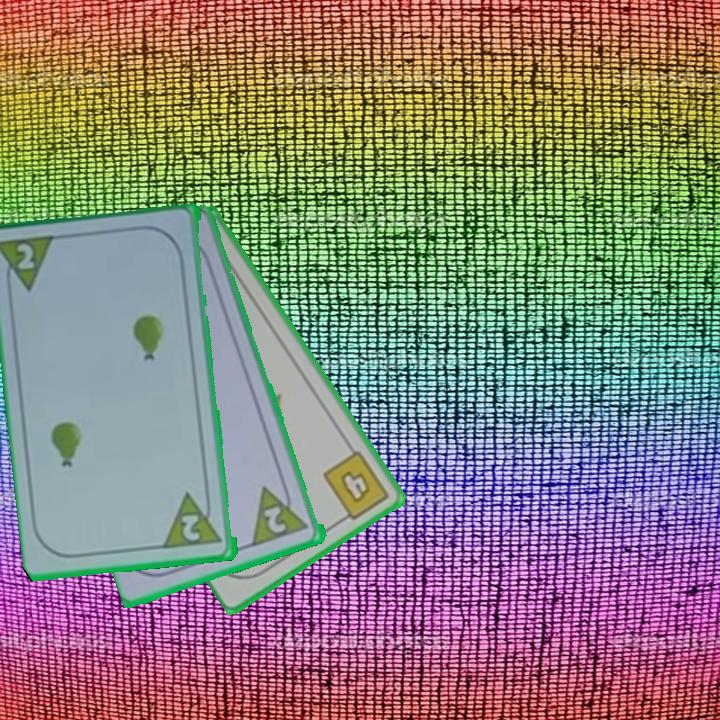2p: (249, 477, 313, 550), (162, 488, 226, 552), (14, 240, 38, 273)
4b: (319, 447, 393, 527)
